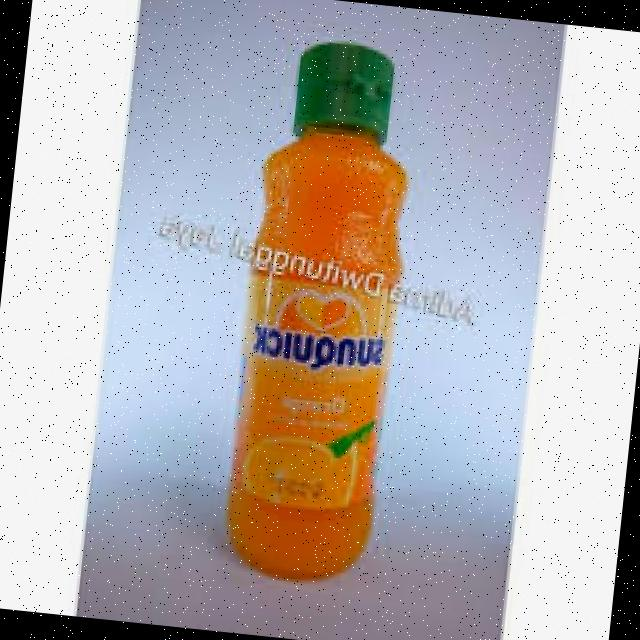bottle: (161, 19, 500, 620)
label: (218, 272, 409, 516)
